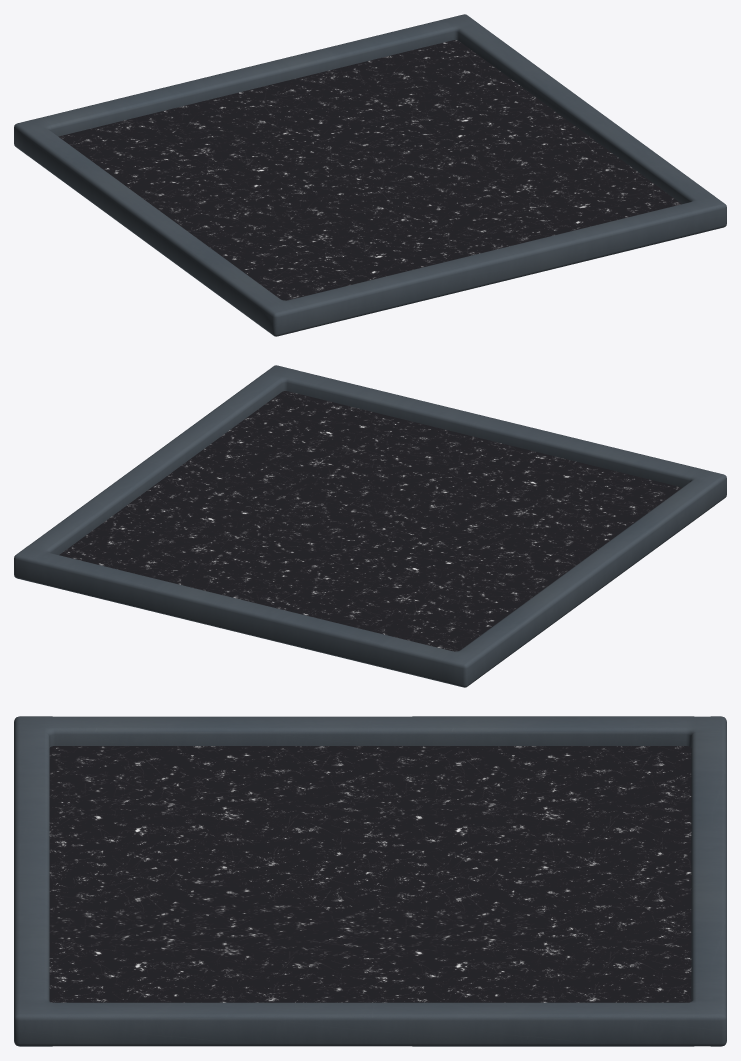
File: MovingPlatform.fbx
3 renders of one model, top to bottom at view 1: azimuth 30°, elevation 25°; view 2: azimuth 150°, elevation 25°; view 3: azimuth 270°, elevation 25°, orthographic. The views are drawn at different scales.
Visible parts, largest first — view 1: MovingPlatform; view 2: MovingPlatform; view 3: MovingPlatform.
Boxes of the visible parts, x1,y1,x2,y2 form: MovingPlatform: [14, 14, 726, 336]; MovingPlatform: [14, 365, 726, 687]; MovingPlatform: [14, 716, 726, 1046].
Bounding box in the file's own units: 400 × 20 × 400.
